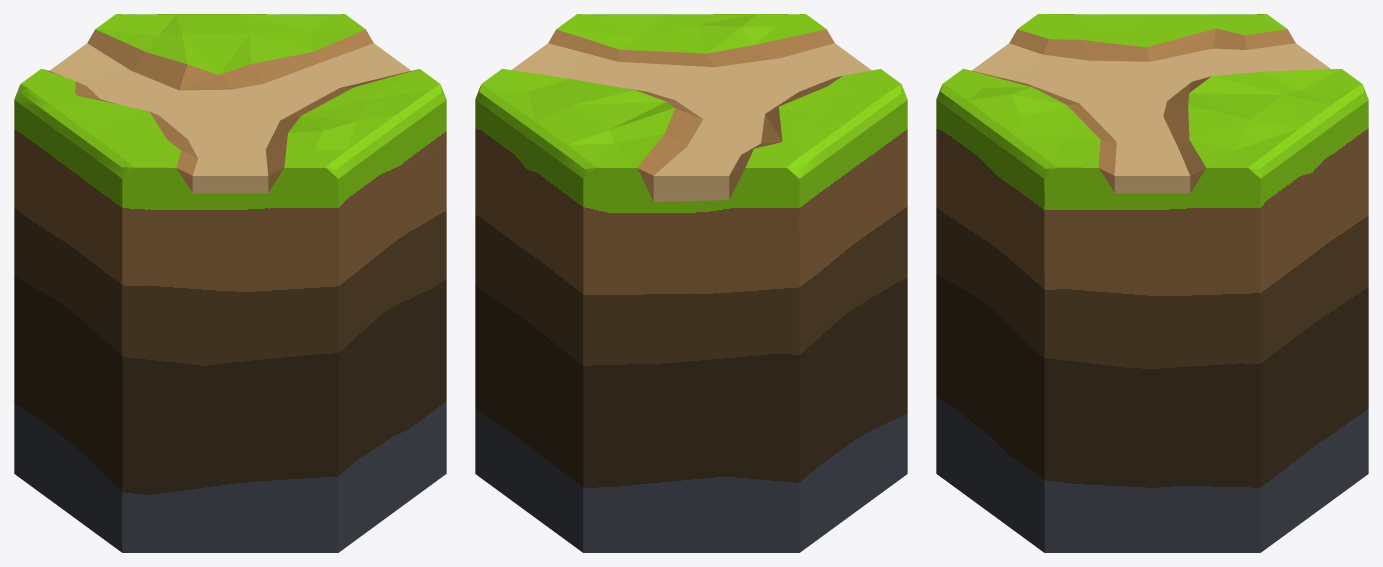
File: HexTilePath_3Way_1.glb
3 renders of one model, left to right at view 1: azimuth 30°, elevation 25°; view 2: azimuth 150°, elevation 25°; view 3: azimuth 270°, elevation 25°, orthographic.
Parts seen in each view (by area): view 1: HexTilePath_3Way_1; view 2: HexTilePath_3Way_1; view 3: HexTilePath_3Way_1.
Boxes of the visible parts, bbox=[...] form: HexTilePath_3Way_1: bbox=[14, 14, 446, 552]; HexTilePath_3Way_1: bbox=[475, 14, 907, 552]; HexTilePath_3Way_1: bbox=[936, 14, 1368, 552].
Size of the model in its own units: 1.73 by 2 by 2.
Materials: 1 (1 with a texture image).
